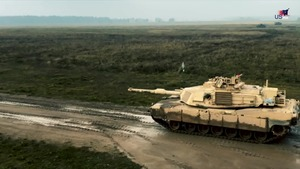abrams: (129, 76, 298, 142)
